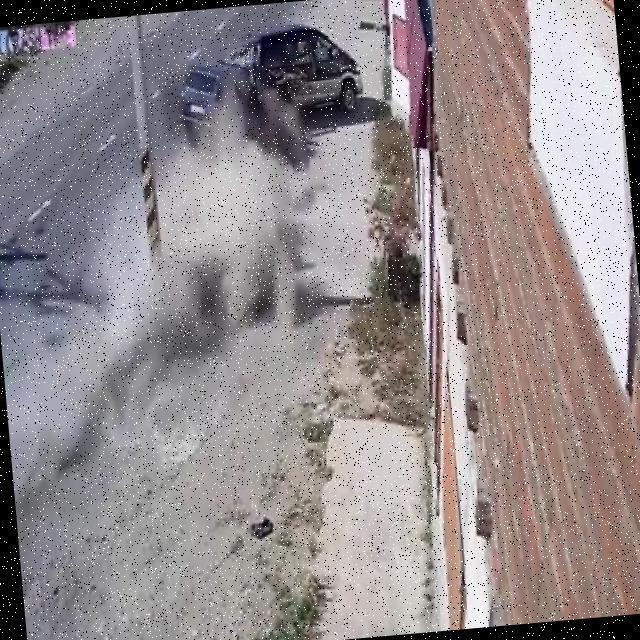accident: (202, 22, 327, 147)
